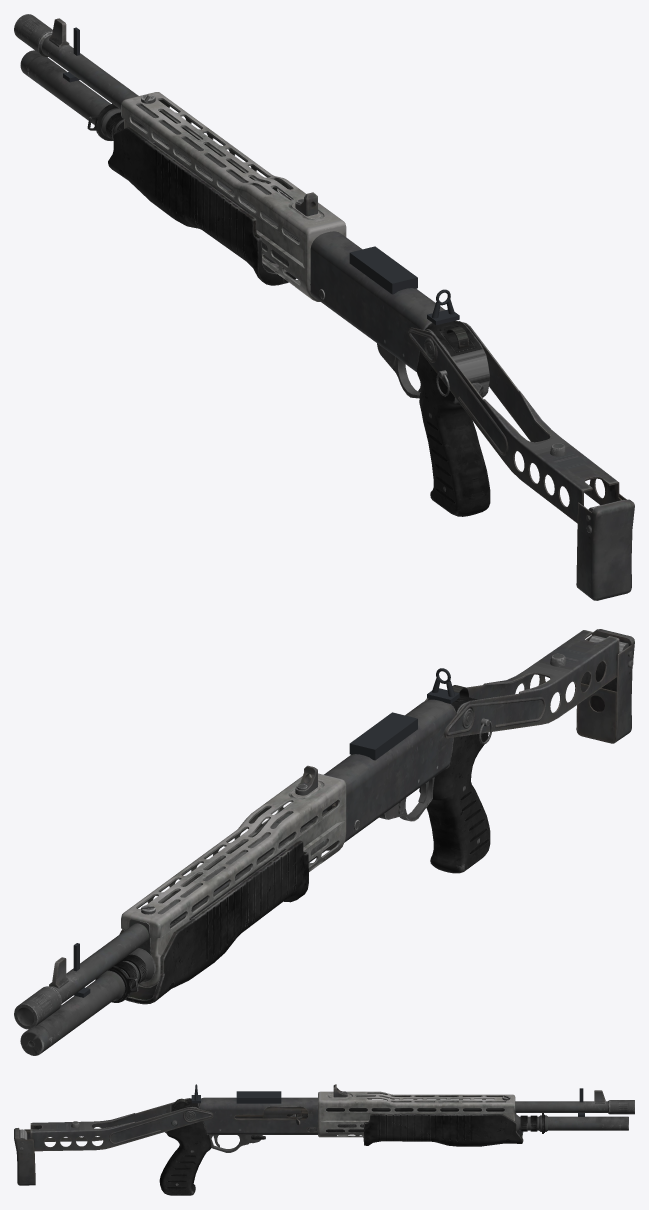
3 views of the same model, one above another, from view 1: azimuth 30°, elevation 25°; view 2: azimuth 150°, elevation 25°; view 3: azimuth 270°, elevation 25° (orthographic). The views are drawn at different scales.
Parts seen in each view (by area): view 1: body, pump; view 2: body, pump, rearsight; view 3: body, pump.
Part boxes in pixels (<box>): body: <box>14,14,634,600</box>; pump: <box>108,127,296,285</box>; body: <box>14,629,634,1055</box>; pump: <box>119,840,308,1004</box>; rearsight: <box>427,668,459,703</box>; body: <box>14,1084,634,1195</box>; pump: <box>363,1113,523,1146</box>.
Bounding box in the file's own units: 0.0648 × 0.2005 × 1.04.
3 materials, 2 textured.
